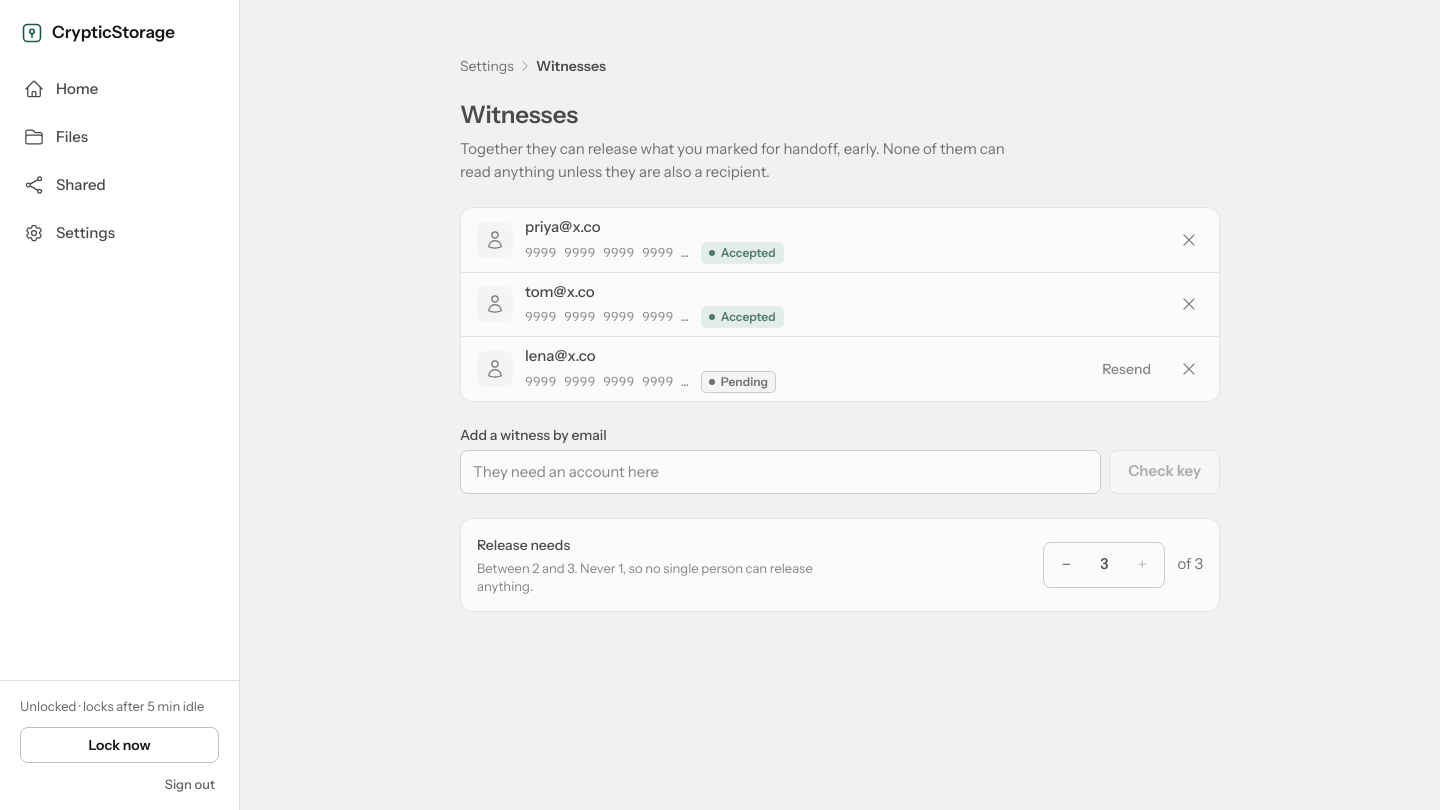
WitnessesPage › does not let the threshold go above the number of witnesses or below two
This screenshot has width=1440, height=810.
Expected: the text "priya@x.co" is shown, [525,217,600,236]
Expected: the button named "More" is disabled, [1120,542,1164,586]
Click the button named "Fewer" at x=1066, y=564, box [1044,542,1088,586]
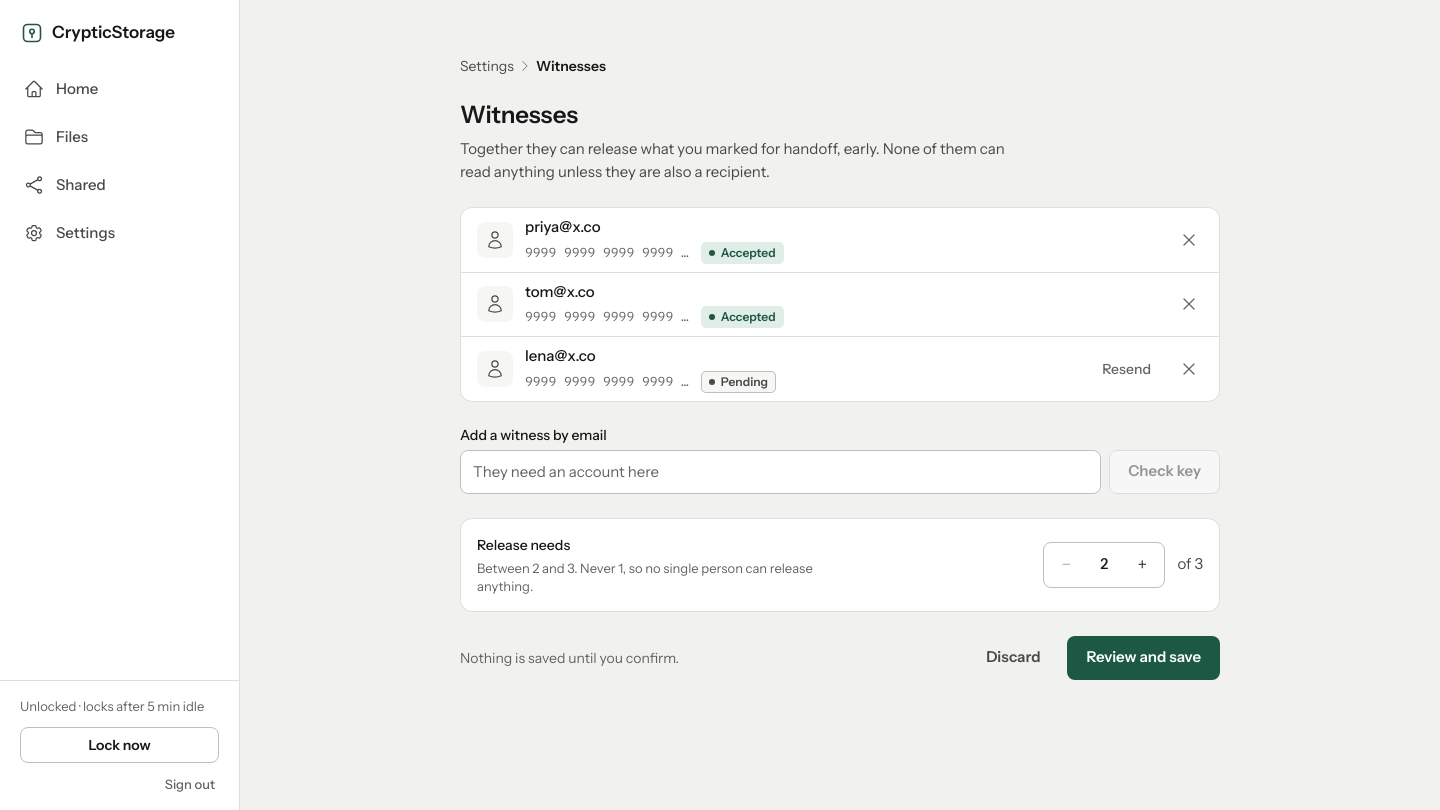
Result: the text "2" is shown at [1100,554,1109,573]
